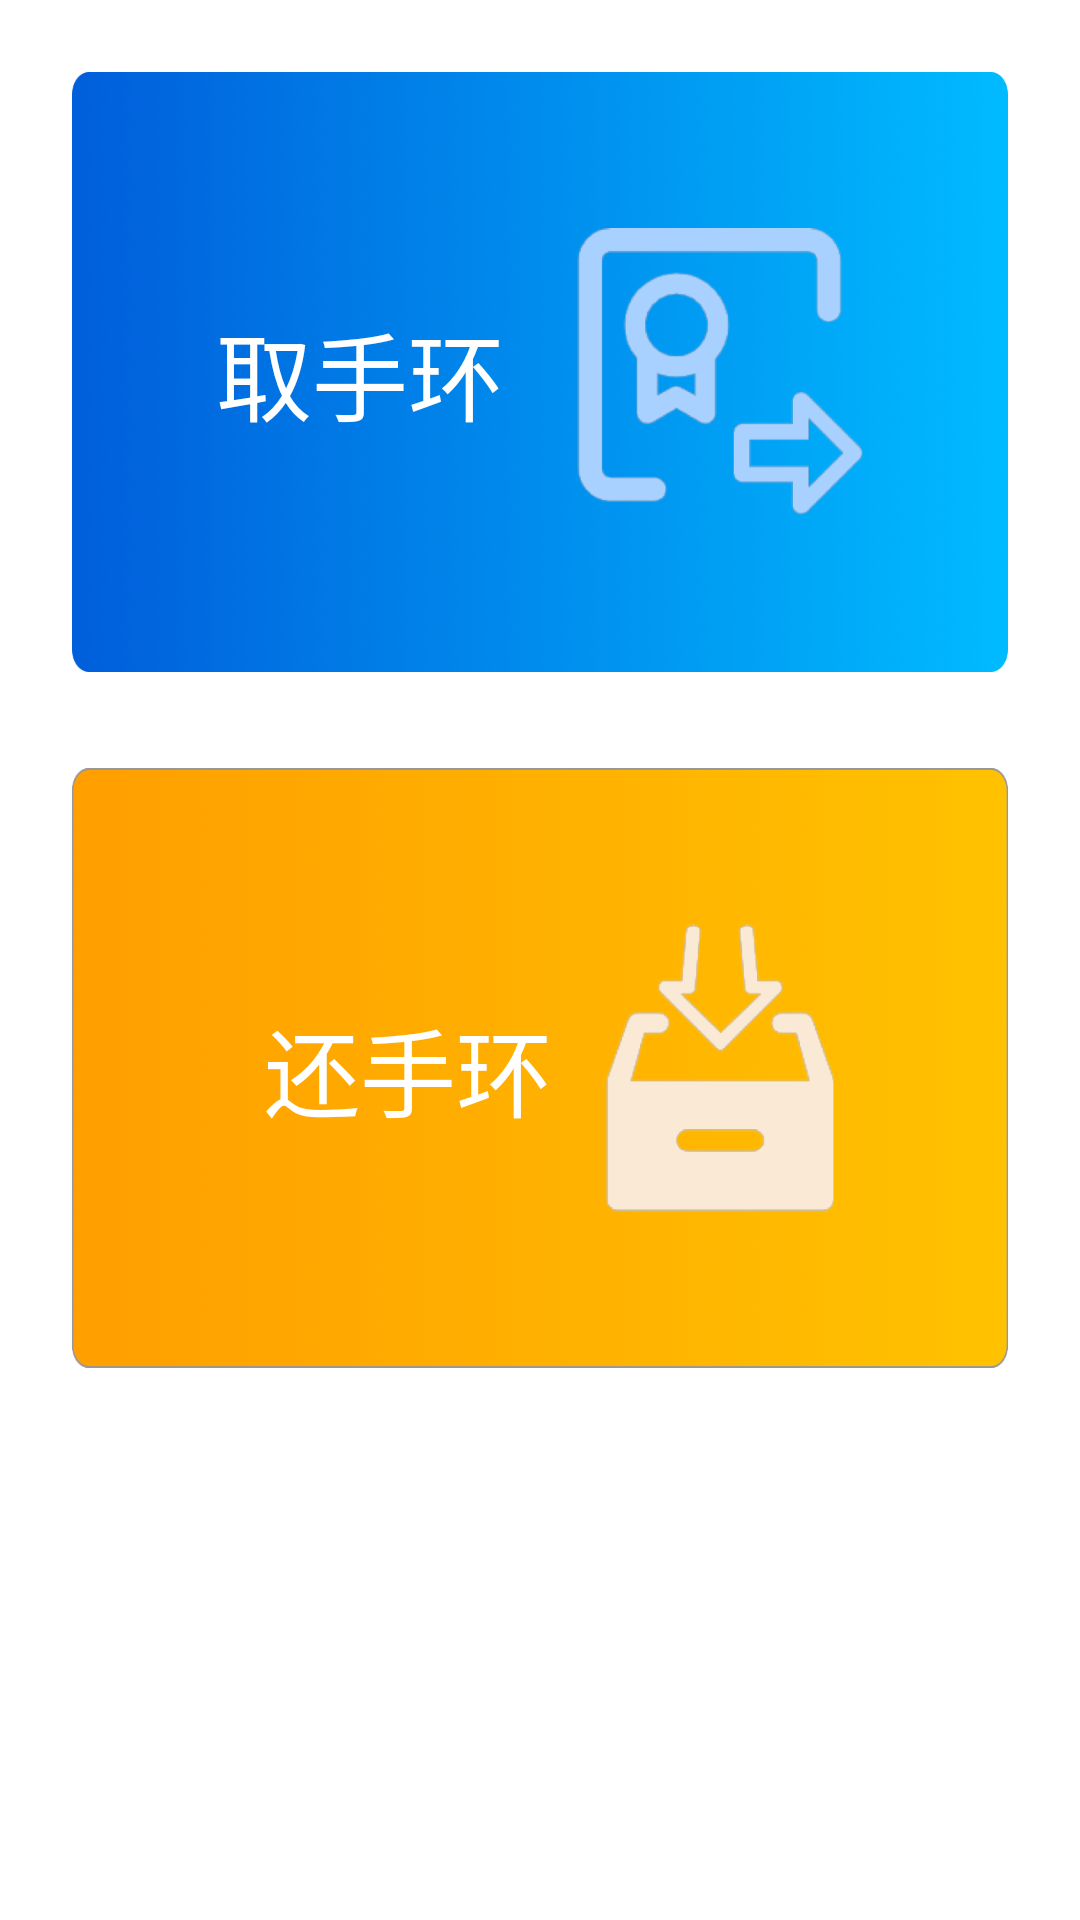

Named icons in this screenshot (1080w x 1920h) and their centers, (x,y):
pop: (719,372)
push: (720,1067)
